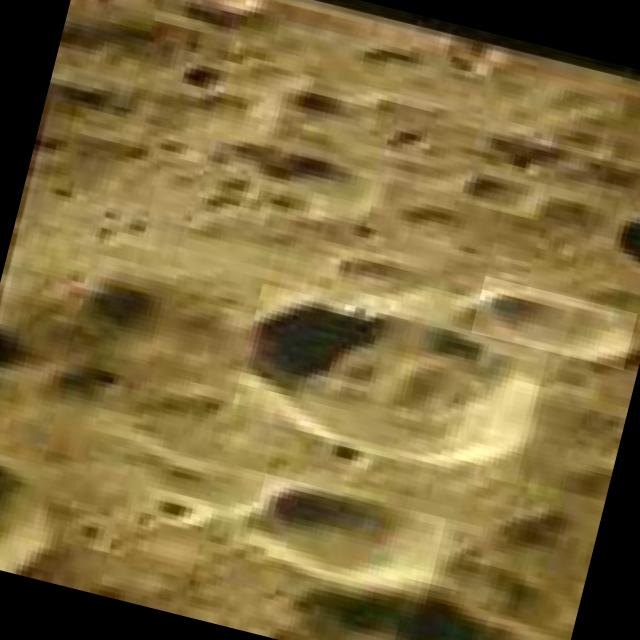crater: (230, 284, 548, 484), (244, 474, 446, 604), (471, 275, 637, 370), (0, 440, 68, 577)
